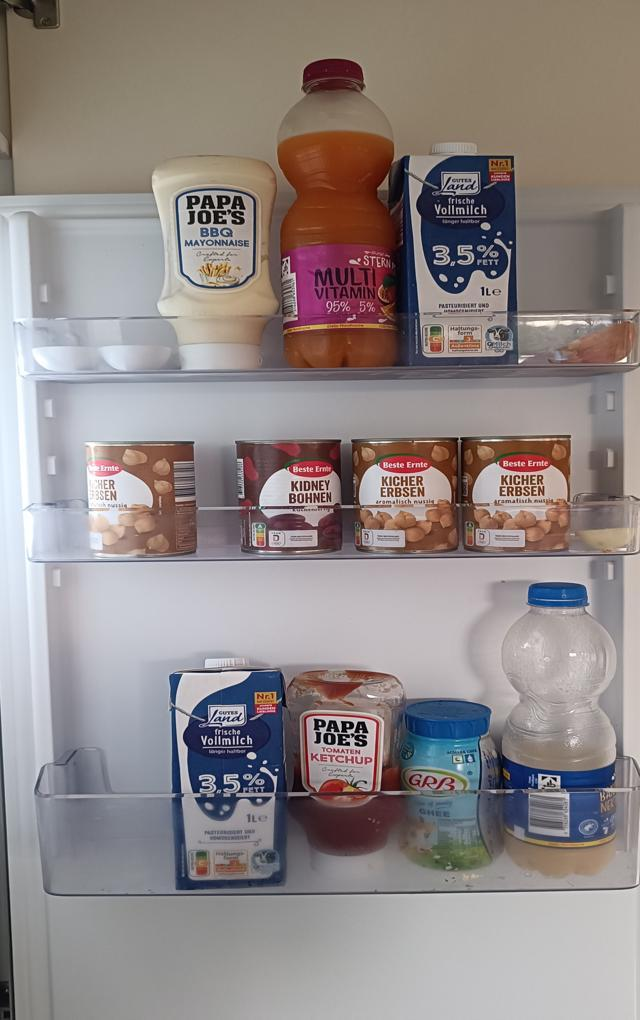bananajuice: (502, 584, 621, 875)
chickpeas: (83, 441, 195, 558), (464, 436, 573, 556), (353, 439, 456, 553)
ghee: (398, 696, 506, 870)
kidneybeans: (237, 438, 342, 553)
mayoniasie: (150, 152, 278, 372)
milk: (395, 139, 520, 373), (170, 654, 288, 892)
orangejuice: (276, 56, 399, 367)
tomatoketchup: (286, 668, 404, 881)
